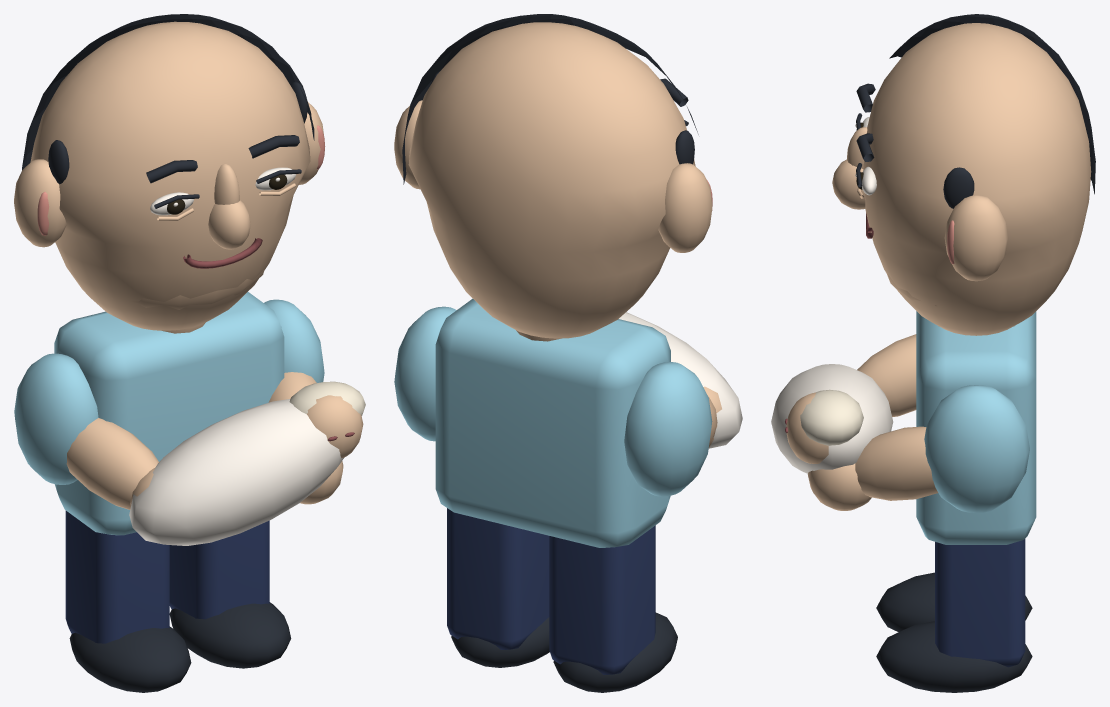
The model's file is longlong-05.glb.
The picture shows the model from 3 angles, left to right: view 1: azimuth 30°, elevation 25°; view 2: azimuth 150°, elevation 25°; view 3: azimuth 270°, elevation 25°; orthographic projection. The views are drawn at different scales.
Parts seen in each view (by area): view 1: Trousers, Side-swept hair; view 2: Trousers, Side-swept hair; view 3: Trousers, Side-swept hair.
Boxes of the visible parts, x1=… form: Trousers: x1=14, y1=21, x2=365, y2=692; Side-swept hair: x1=22, y1=14, x2=314, y2=169; Trousers: x1=394, y1=22, x2=742, y2=692; Side-swept hair: x1=402, y1=14, x2=698, y2=184; Trousers: x1=771, y1=23, x2=1091, y2=692; Side-swept hair: x1=889, y1=14, x2=1095, y2=194.
Size of the model in its own units: 1.49 by 3 by 1.39.
2 materials, 2 textured.
